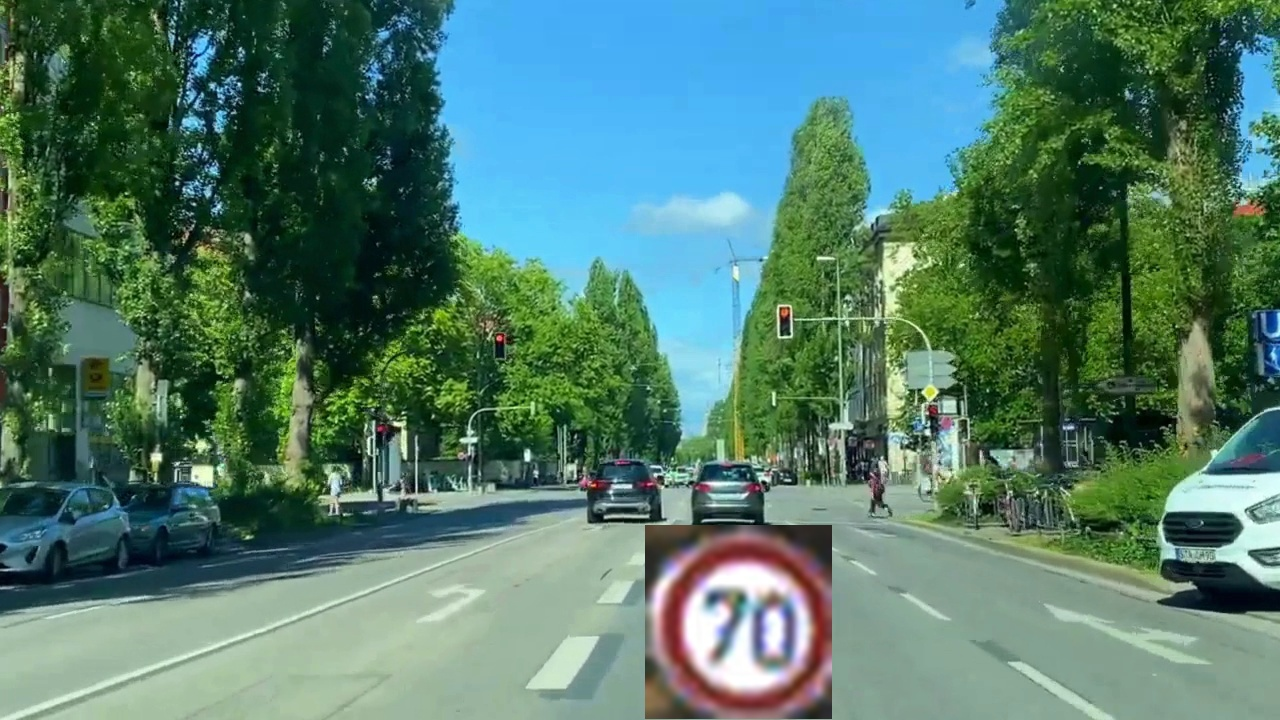Speed 70: (645, 525, 832, 719)
